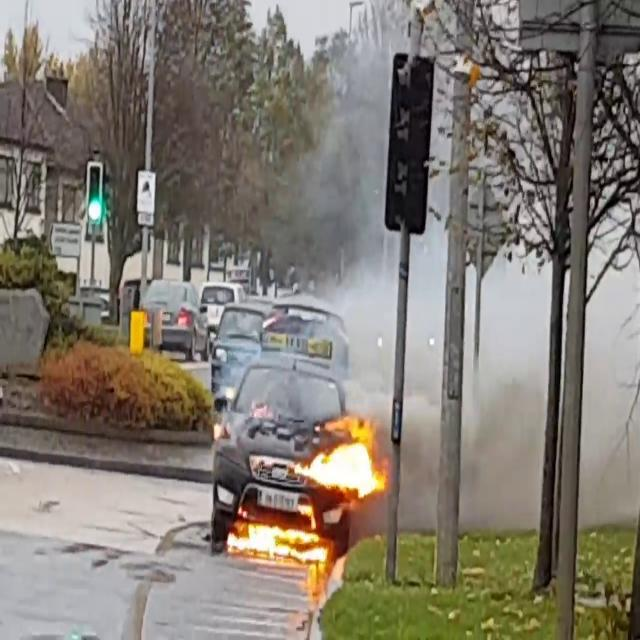Fire: (293, 416, 389, 498), (225, 508, 328, 562)
Smoke: (333, 78, 640, 488)
